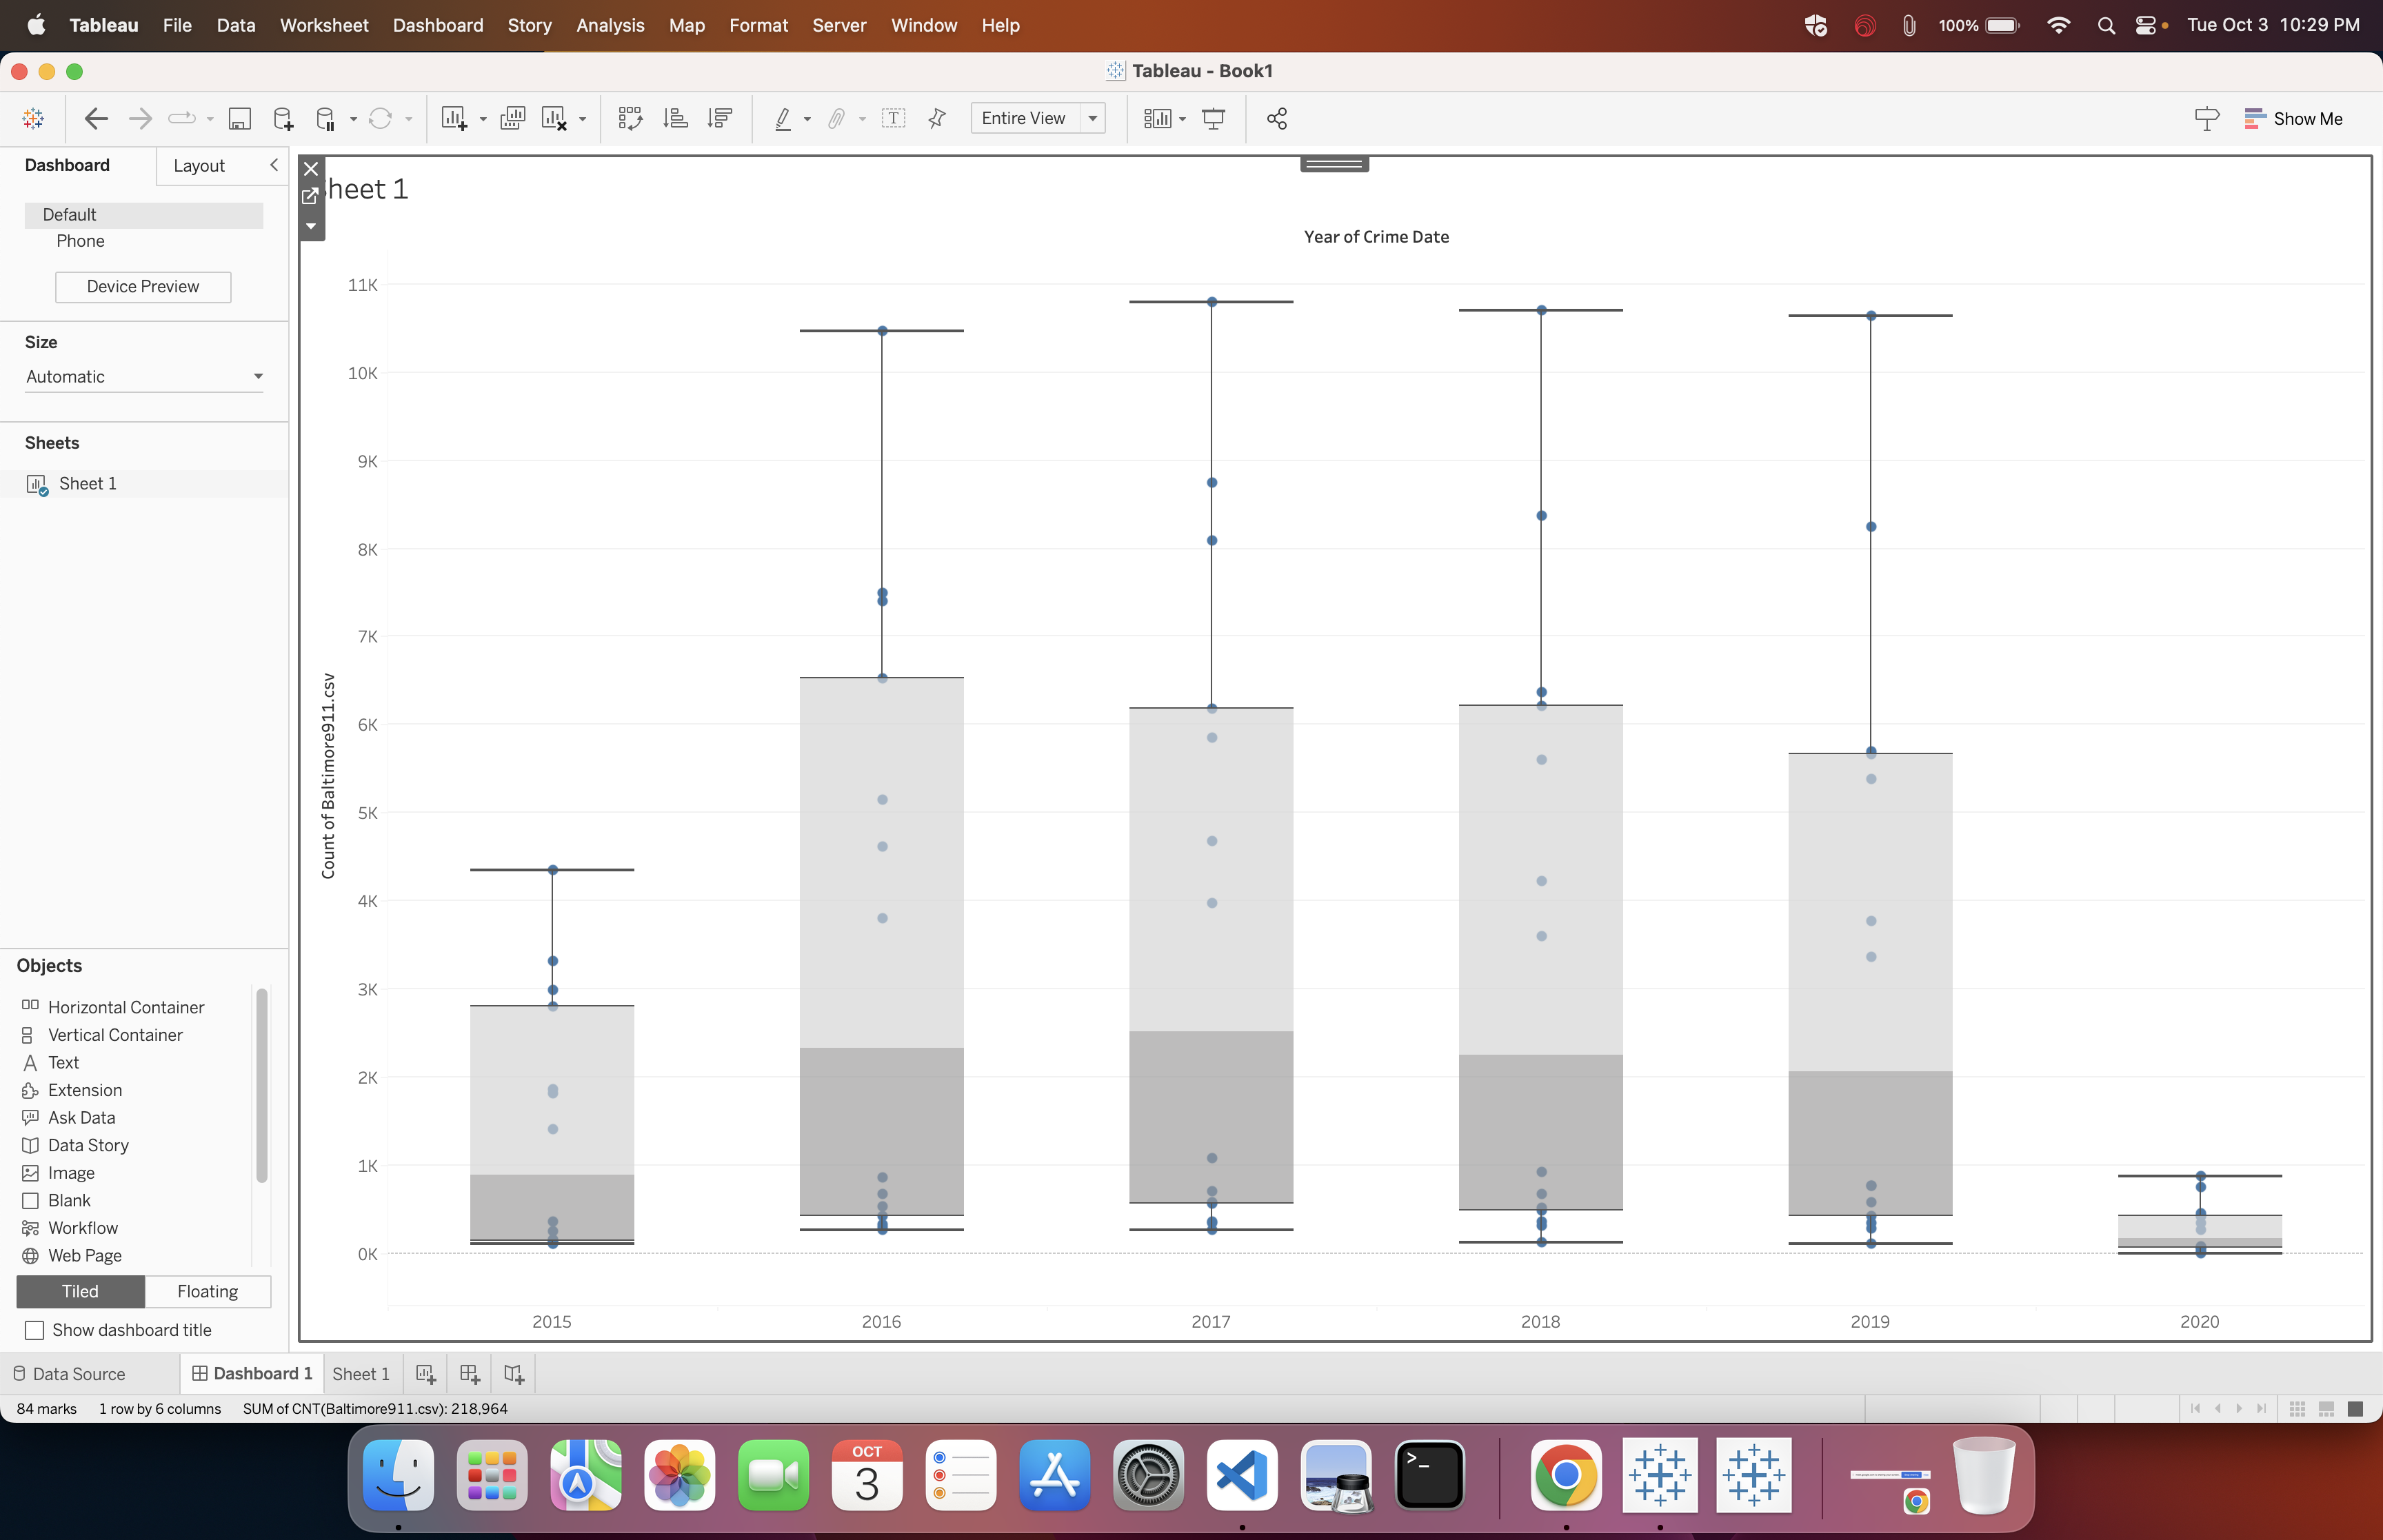

The page's visual inventory and layout, read from the dashboard file:
{"tool":"tableau","page":{"name":"Dashboard 1","canvas":[1000,1000],"units":"permille","ordinal":0},"visuals":[{"type":"worksheet","title":"Sheet 1","mark":"Circle","rows":["Baltimore911.csv_D21EA5A1DF394CF2B379596E421D5C13"],"cols":["CrimeDate"],"box":[5.3,9.2,989.5,981.7]}]}

Visuals, with their boxes on the dashboard's canvas, which has no fixed pixel size, in thousandths of its width and height (x1, y1, x2, y2). These are canvas units, not pixel positions in the 2383x1540 screenshot, which may show the page scaled, cropped or inside an application window:
"Sheet 1" worksheet (Circle marks): bbox=[5, 9, 995, 991]
